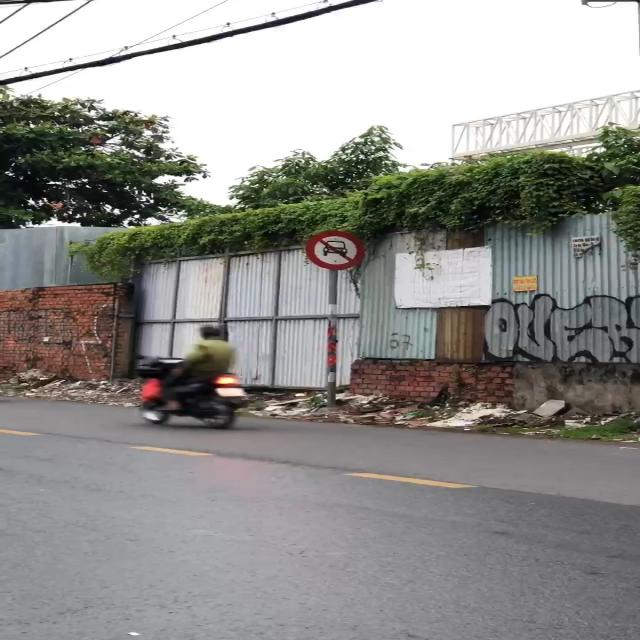Bien bao cam xe oto: (305, 228, 371, 272)
